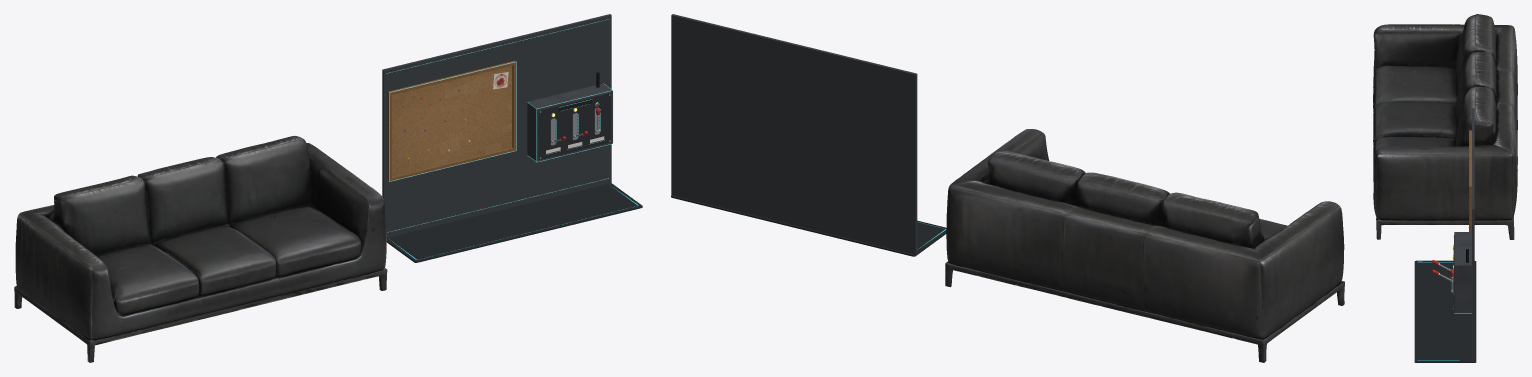
The model's file is DESC_A.glb.
The picture shows the model from 3 angles, left to right: view 1: azimuth 30°, elevation 25°; view 2: azimuth 150°, elevation 25°; view 3: azimuth 270°, elevation 25°; orthographic projection. The views are drawn at different scales.
Parts seen in each view (by area): view 1: V41, parede, cortica_area_texto, base_peca, painel_face, cortica_moldura, painel_caixa; view 2: V41, parede, base_peca; view 3: V41, base_peca, painel_caixa, parede, cortica_moldura.
Part boxes in pixels (x1=…): V41: x1=14, y1=136, x2=387, y2=362; parede: x1=382, y1=14, x2=611, y2=237; cortica_area_texto: x1=392, y1=66, x2=512, y2=176; base_peca: x1=387, y1=183, x2=642, y2=262; painel_face: x1=538, y1=93, x2=611, y2=159; cortica_moldura: x1=387, y1=61, x2=516, y2=181; painel_caixa: x1=527, y1=83, x2=612, y2=161; V41: x1=945, y1=129, x2=1344, y2=362; parede: x1=671, y1=14, x2=917, y2=254; base_peca: x1=671, y1=195, x2=946, y2=256; V41: x1=1373, y1=14, x2=1517, y2=239; base_peca: x1=1414, y1=260, x2=1476, y2=362; painel_caixa: x1=1454, y1=232, x2=1471, y2=313; parede: x1=1472, y1=108, x2=1474, y2=361; cortica_moldura: x1=1469, y1=130, x2=1471, y2=231.
Bounding box in the file's own units: 3.8 × 1.07 × 0.9103.
26 materials, 5 textured.
